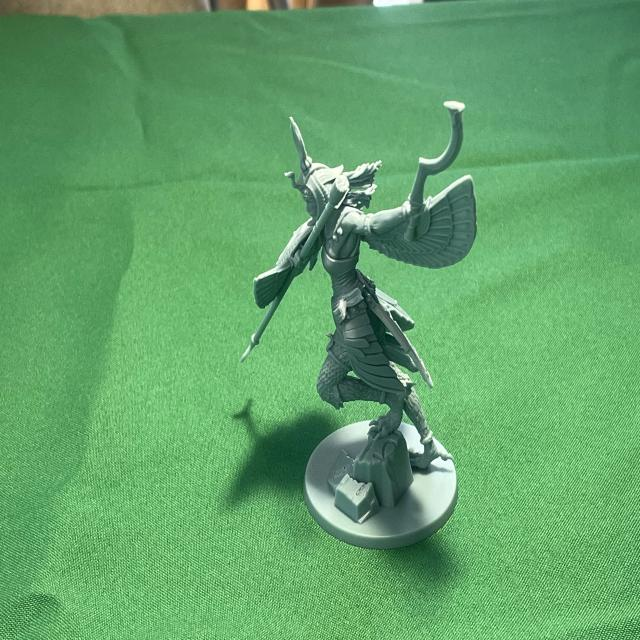isis: (232, 89, 492, 579)
